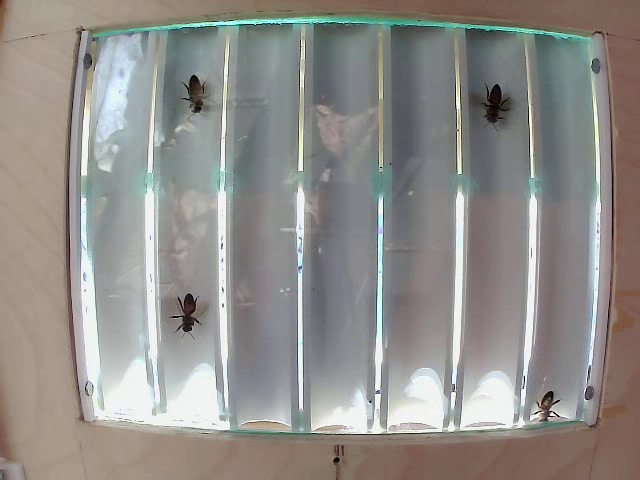bee: (168, 273, 212, 327), (472, 75, 508, 134), (178, 66, 217, 115)
